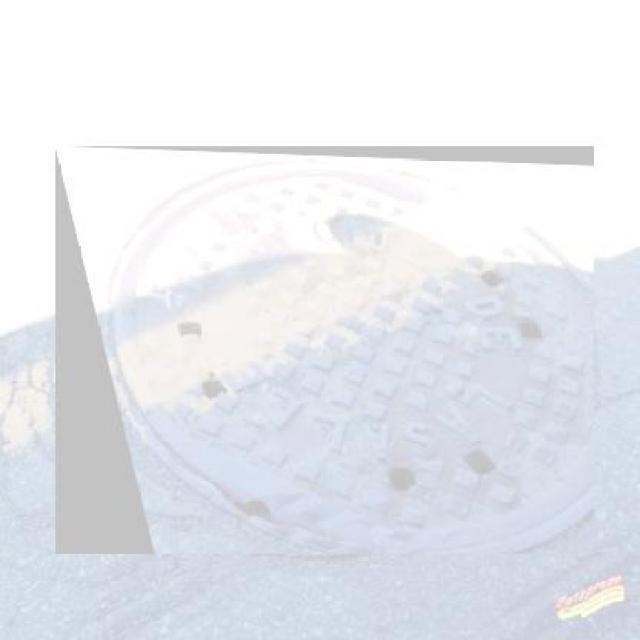Manhole: (55, 146, 594, 554)
